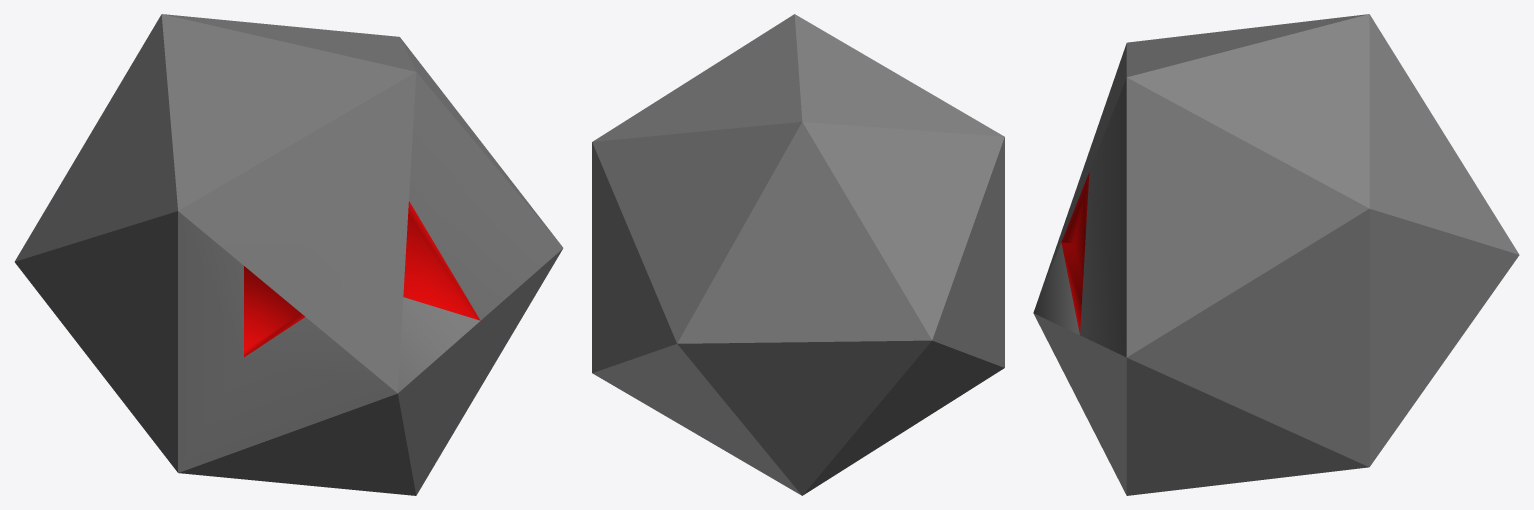
The model's file is Golem_Head.fbx.
3 renders of one model, left to right at view 1: azimuth 30°, elevation 25°; view 2: azimuth 150°, elevation 25°; view 3: azimuth 270°, elevation 25°, orthographic. The views are drawn at different scales.
Parts seen in each view (by area): view 1: Head; view 2: Head; view 3: Head.
Boxes of the visible parts, x1,y1,x2,y2 form: Head: (14, 14, 563, 495); Head: (592, 14, 1004, 495); Head: (1033, 14, 1519, 495).
Bounding box in the file's own units: 114 × 109 × 115.
1 material, 1 textured.
